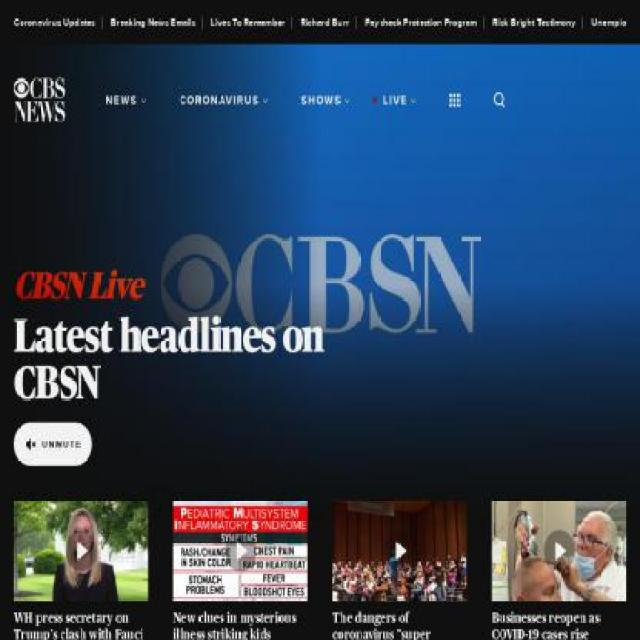button: (0, 44, 640, 525), (173, 500, 309, 638), (332, 500, 468, 638), (491, 500, 627, 638), (14, 500, 149, 638), (165, 86, 273, 114), (288, 86, 355, 114), (92, 86, 152, 114), (369, 86, 422, 114), (365, 17, 477, 29), (492, 17, 577, 29), (111, 17, 195, 29), (14, 17, 95, 29), (211, 17, 286, 29), (299, 17, 350, 29), (592, 17, 639, 29)
